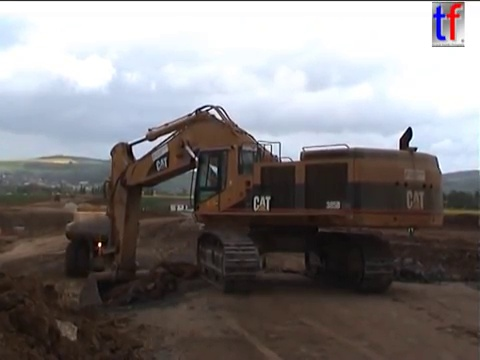excavator: (74, 102, 447, 323)
truck: (194, 191, 290, 277), (63, 199, 142, 282), (52, 191, 62, 204), (68, 191, 78, 201)
worker: (404, 211, 419, 240)
